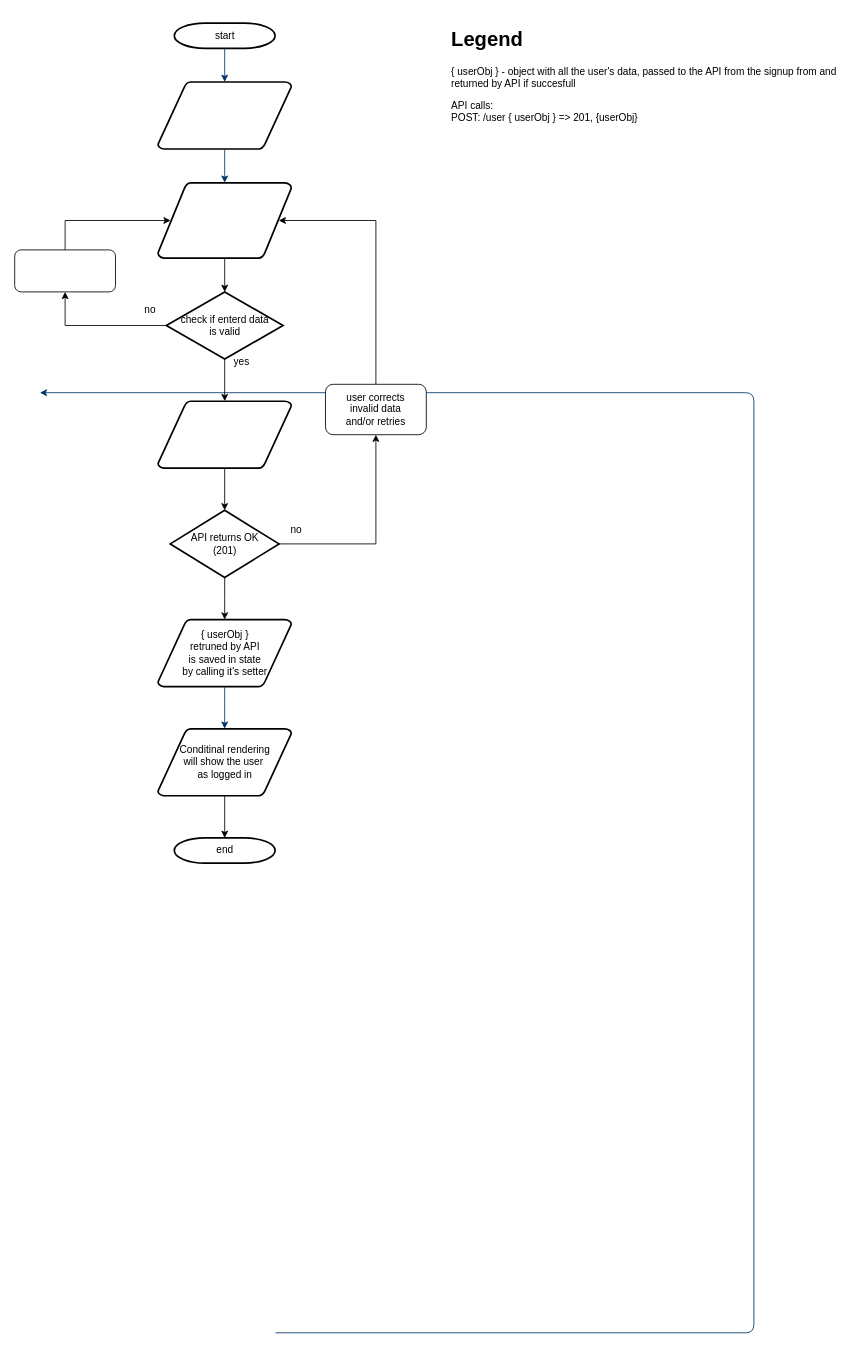
This 865x1354 diagram has some shape labels left out. Here are the shapes that lost their labels. From the top down, the centre of each, then its label:
At (x=224, y=115): "On the landing page user will press a sign up/register button".
At (x=224, y=220): "A dialog opens where the user has to enter his data in a form".
At (x=65, y=270): "user corrects invalid data".
At (x=224, y=434): "API will be called with POST /user {userObj}".
